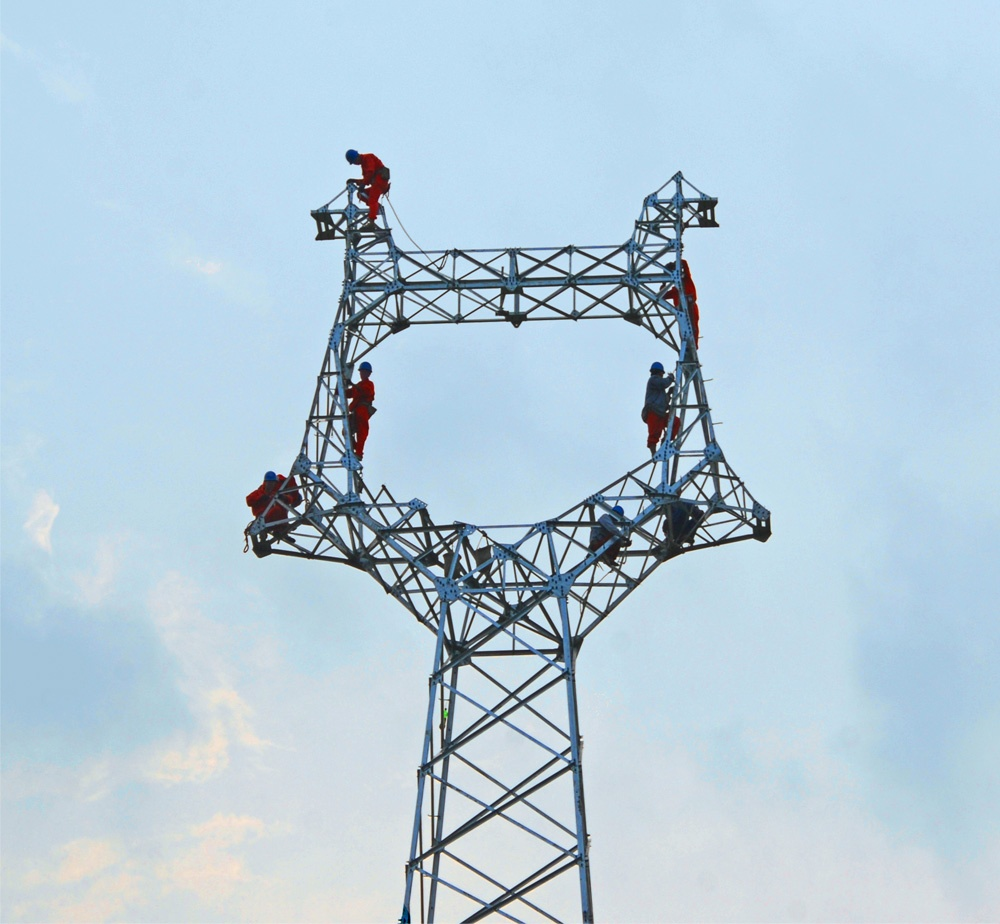blue: (260, 469, 278, 489), (357, 360, 373, 380), (345, 148, 362, 166), (648, 360, 665, 377), (609, 505, 625, 521)
